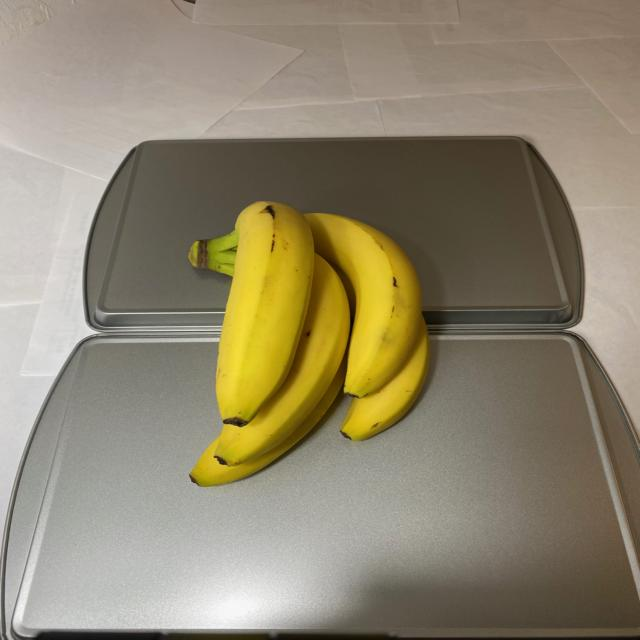banana: (182, 198, 435, 494)
